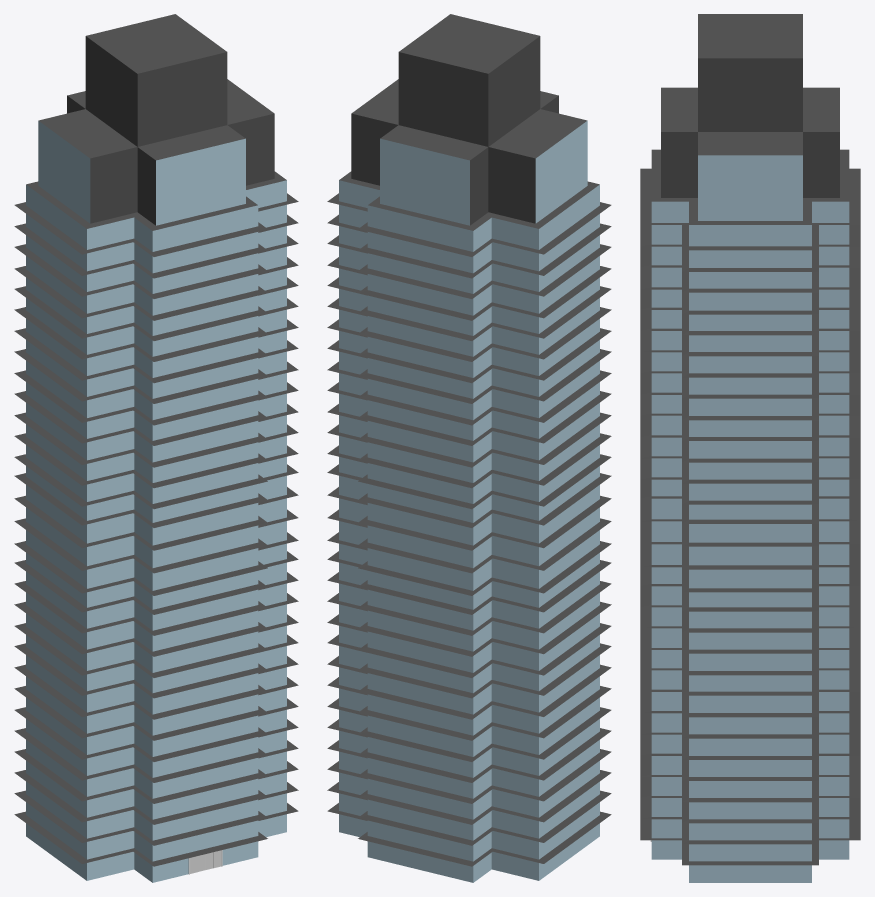
File: skyscraper_01.fbx
3 views of the same model, side by side, from view 1: azimuth 30°, elevation 25°; view 2: azimuth 150°, elevation 25°; view 3: azimuth 270°, elevation 25° (orthographic).
Visible parts, largest first — view 1: skyscraper1; view 2: skyscraper1; view 3: skyscraper1.
Boxes of the visible parts, x1,y1,x2,y2 form: skyscraper1: (14, 14, 298, 882); skyscraper1: (327, 14, 611, 882); skyscraper1: (640, 14, 860, 882).
Bounding box in the file's own units: 2504 × 8725 × 2184.
